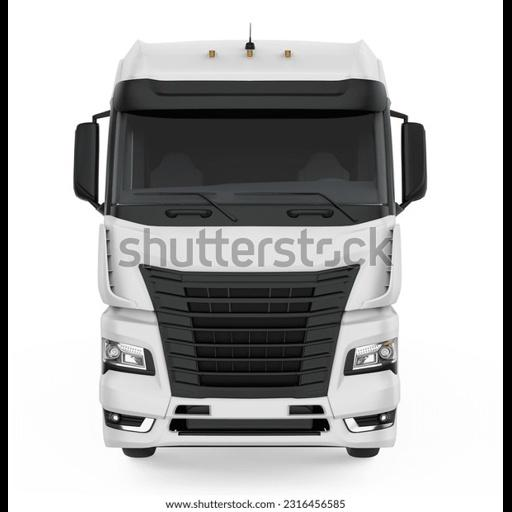truck: (70, 38, 427, 456)
